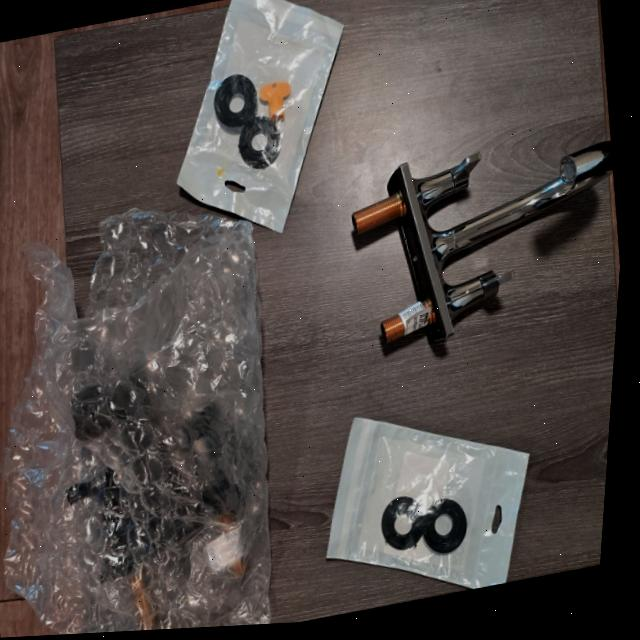10: (351, 141, 613, 341)
12: (177, 0, 342, 232)
13: (326, 417, 528, 589)
9c: (2, 209, 270, 635)
